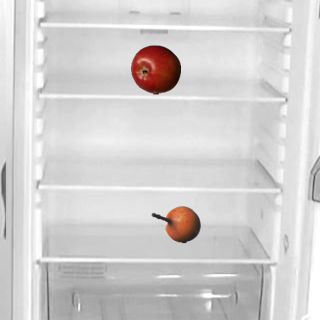Apple Braeburn: (130, 44, 180, 94)
Granadilla: (150, 199, 200, 249)
